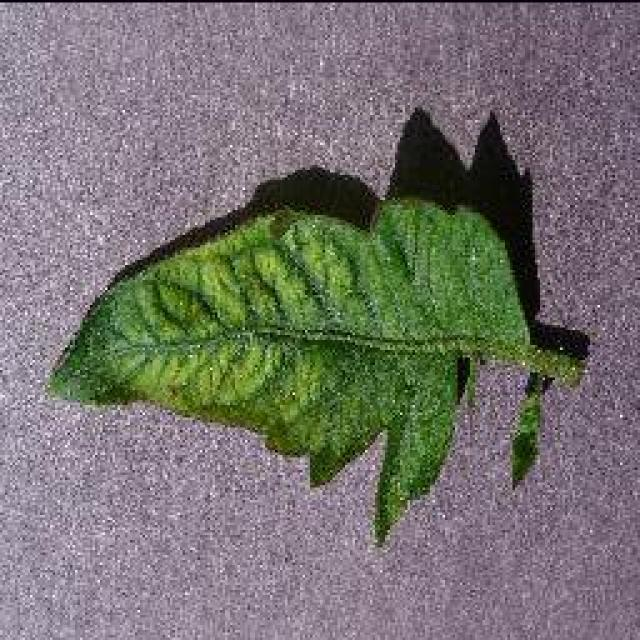Tomato___Tomato_mosaic_virus: (48, 202, 582, 542)
